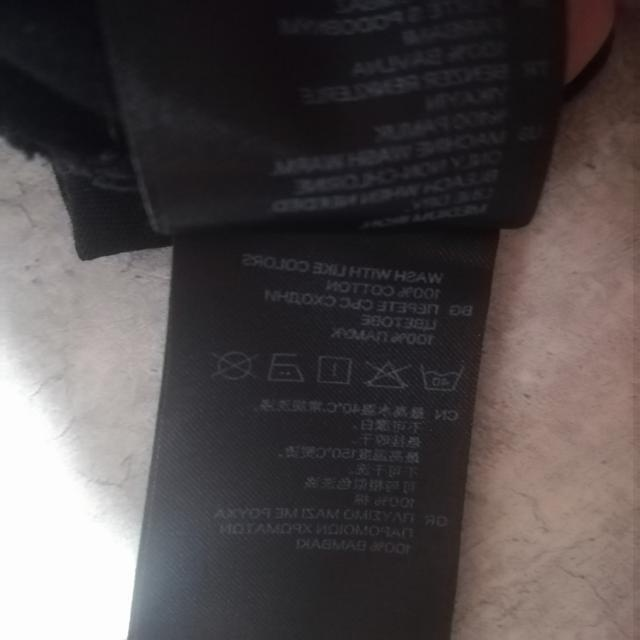40C: (416, 357, 462, 394)
DN_bleach: (361, 356, 409, 395)
DN_dry_clean: (206, 346, 261, 386)
iron_medium: (264, 350, 306, 388)
